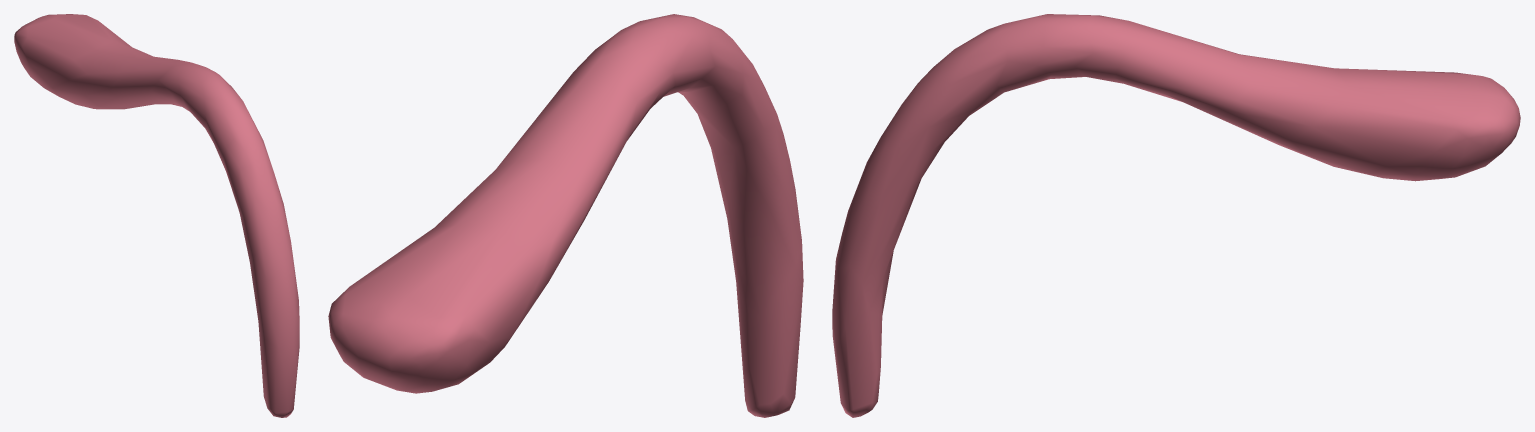
Rendered from Corpus_spongiosum_penis.glb.
The picture shows the model from 3 angles, left to right: view 1: azimuth 30°, elevation 25°; view 2: azimuth 150°, elevation 25°; view 3: azimuth 270°, elevation 25°; orthographic projection. The views are drawn at different scales.
Parts seen in each view (by area): view 1: Corpus_spongiosum_of_penis_grp1.1507; view 2: Corpus_spongiosum_of_penis_grp1.1507; view 3: Corpus_spongiosum_of_penis_grp1.1507.
Boxes of the visible parts, x1,y1,x2,y2 form: Corpus_spongiosum_of_penis_grp1.1507: [14, 14, 299, 417]; Corpus_spongiosum_of_penis_grp1.1507: [328, 14, 803, 417]; Corpus_spongiosum_of_penis_grp1.1507: [832, 14, 1520, 417].
Bounding box in the file's own units: 0.0213 × 0.0713 × 0.1121.
